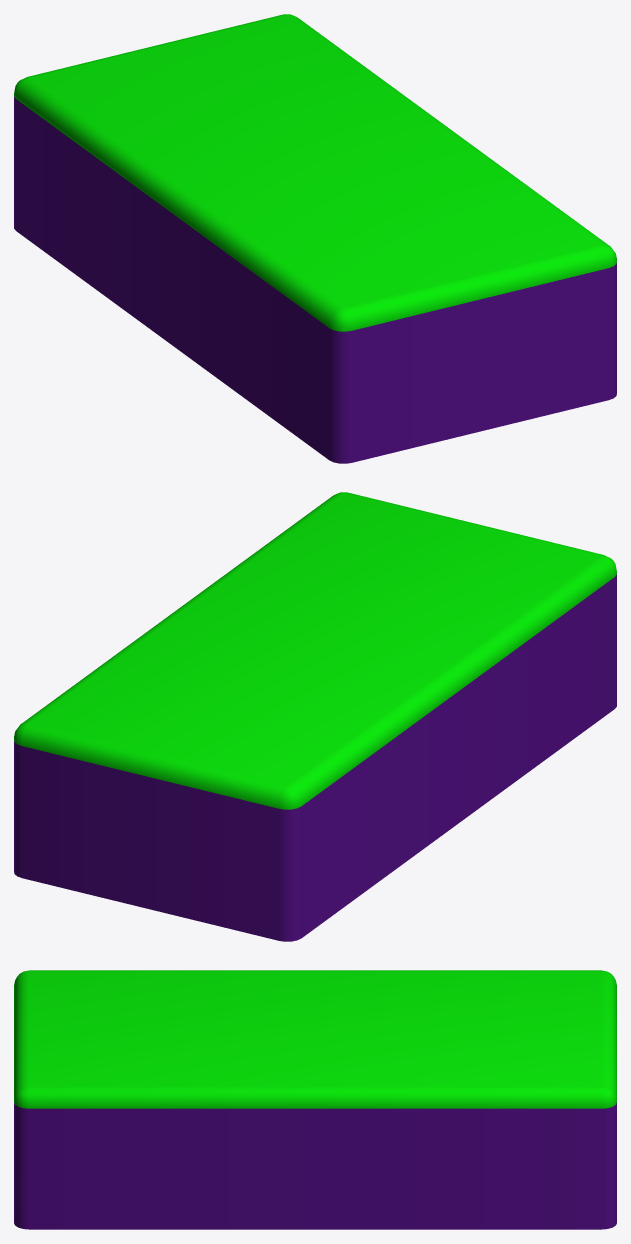
File: base_big.fbx
3 renders of one model, top to bottom at view 1: azimuth 30°, elevation 25°; view 2: azimuth 150°, elevation 25°; view 3: azimuth 270°, elevation 25°, orthographic. The views are drawn at different scales.
Parts seen in each view (by area): view 1: Cube.002; view 2: Cube.002; view 3: Cube.002.
Part boxes in pixels (x1,y1,x2,y2): Cube.002: (14, 14, 616, 463); Cube.002: (14, 492, 616, 941); Cube.002: (14, 970, 616, 1229).
Bounding box in the file's own units: 40 × 20 × 80.
